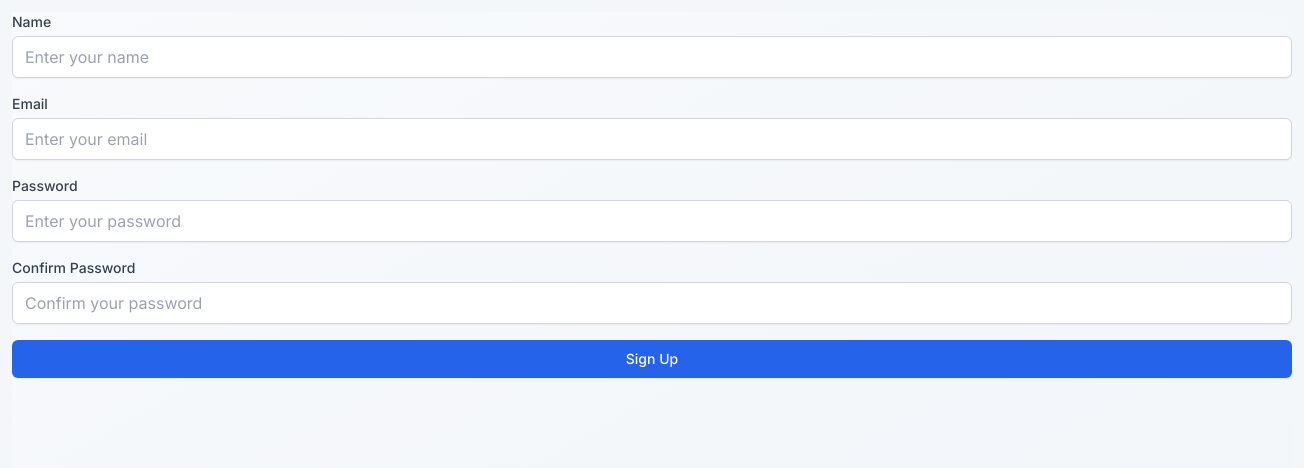
Test case: SignupForm › should show validation error for weak password
Step 1. Type "user@example.com" into the field with test id "email" → point(652, 139), box [12, 118, 1292, 160]
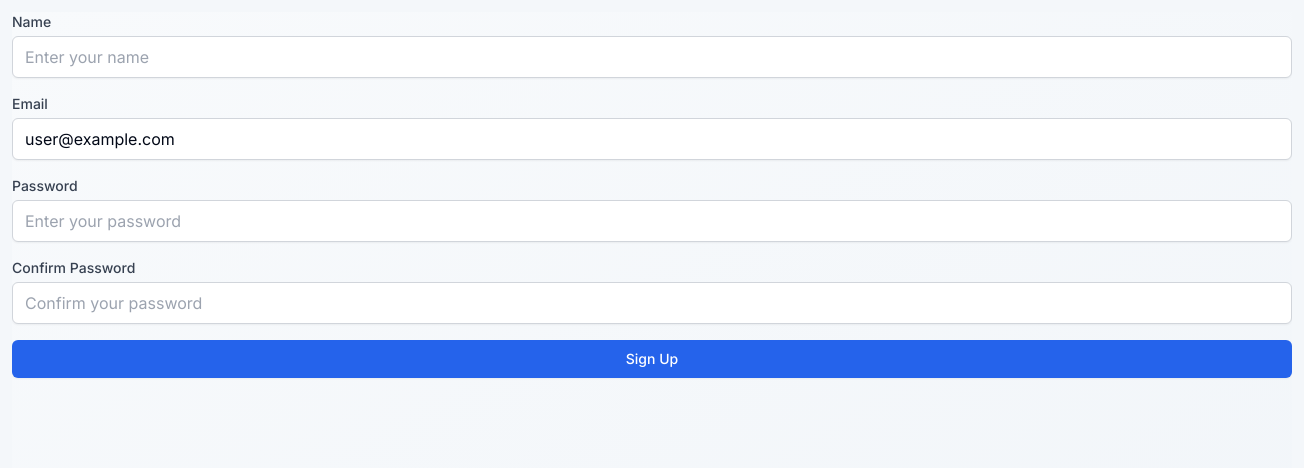
Step 2. Type "123" into the password field with test id "password" → point(652, 221), box [12, 200, 1292, 242]
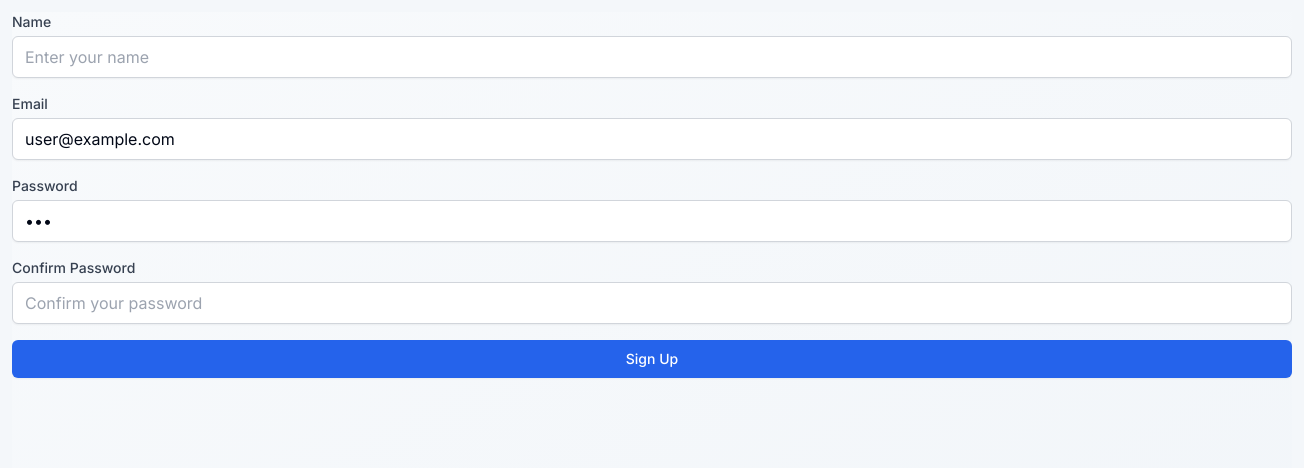
Step 3. Type "123" into the password field with test id "confirmPassword" → point(652, 303), box [12, 282, 1292, 324]
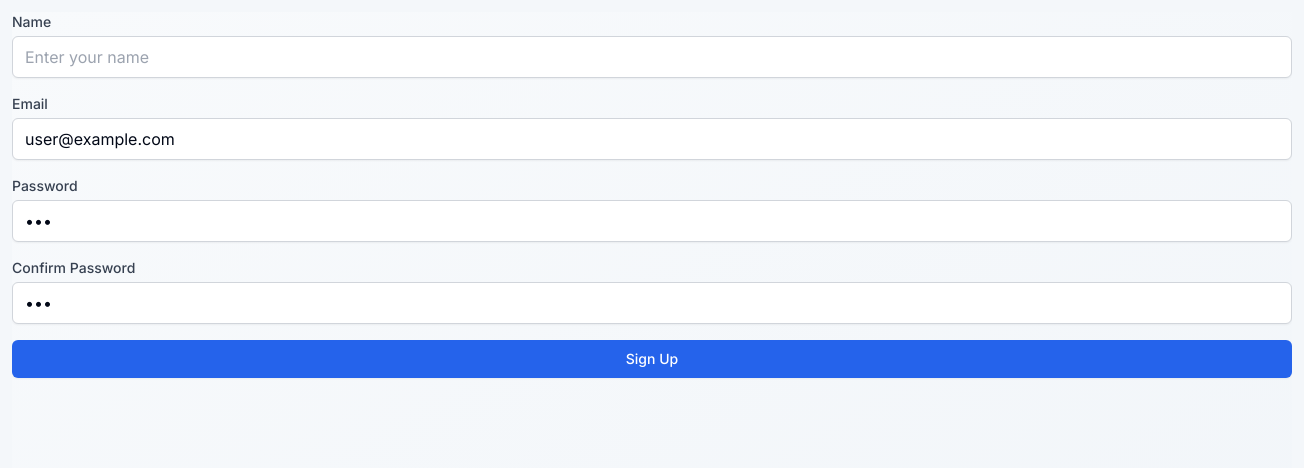
Step 4. Click the button with test id "signup-button" → point(652, 359), box [12, 340, 1292, 378]
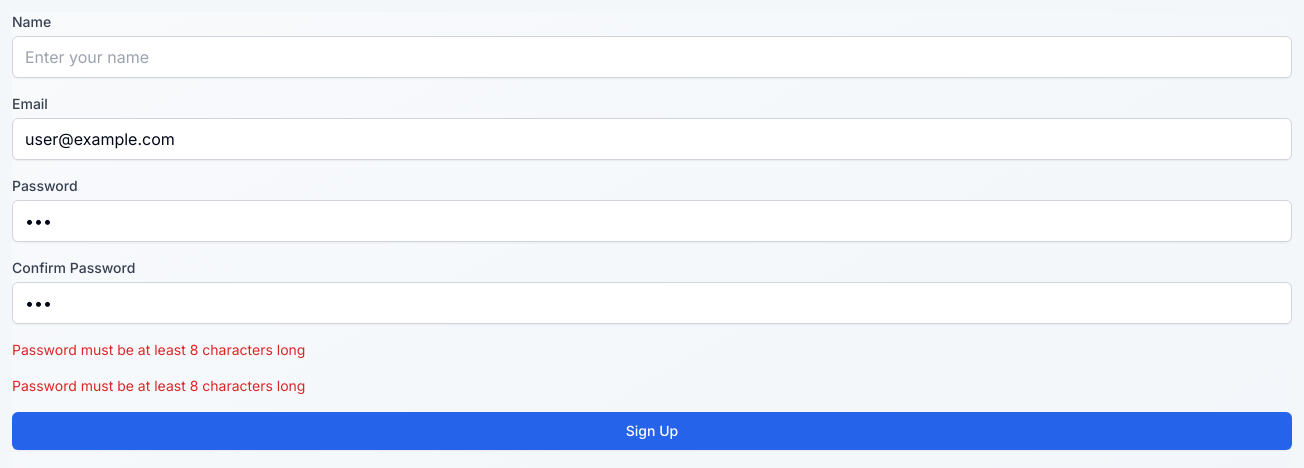
Check: the 2nd text "Password must be at least 8 characters long" is shown, box [12, 377, 305, 394]
